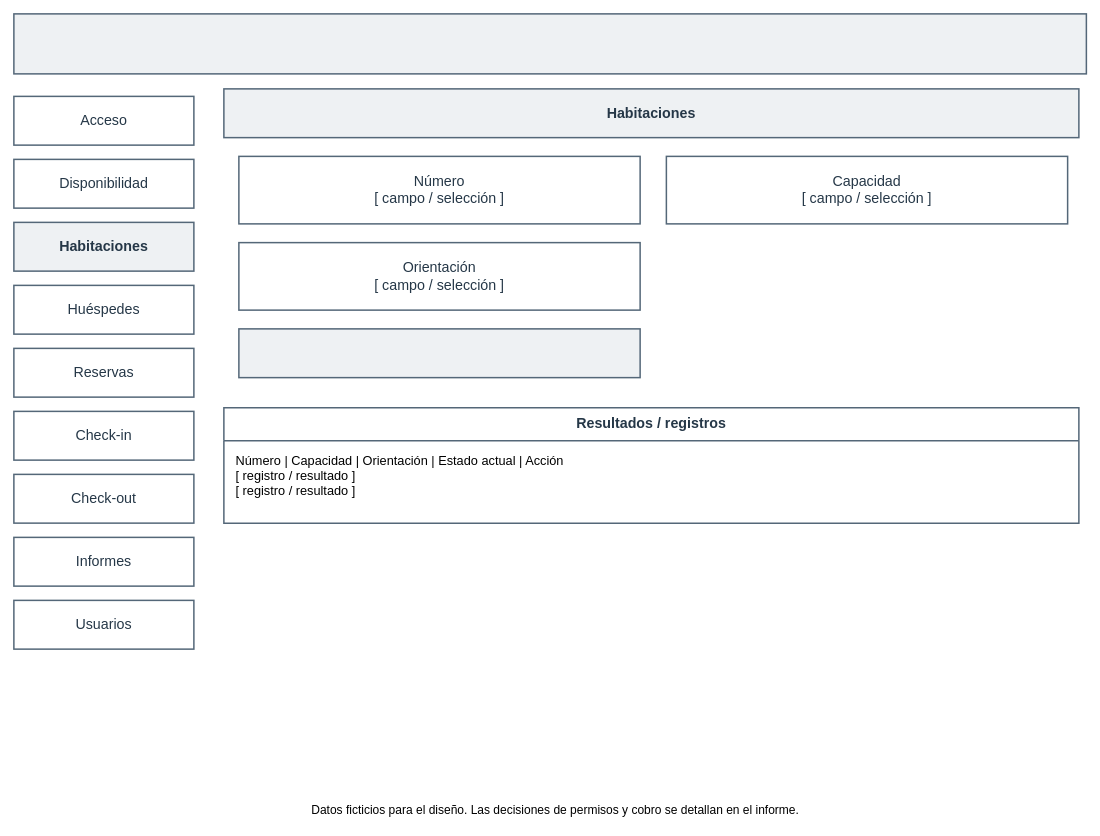
Image size: 1100x836. Some labels were removed from this diagram. Each missing label, with the centre of its shape:
"Guardar habitación" goes at (x=439, y=353).
"Hotel Duerme Bien · Sistema de pasajeros" goes at (x=550, y=43).
